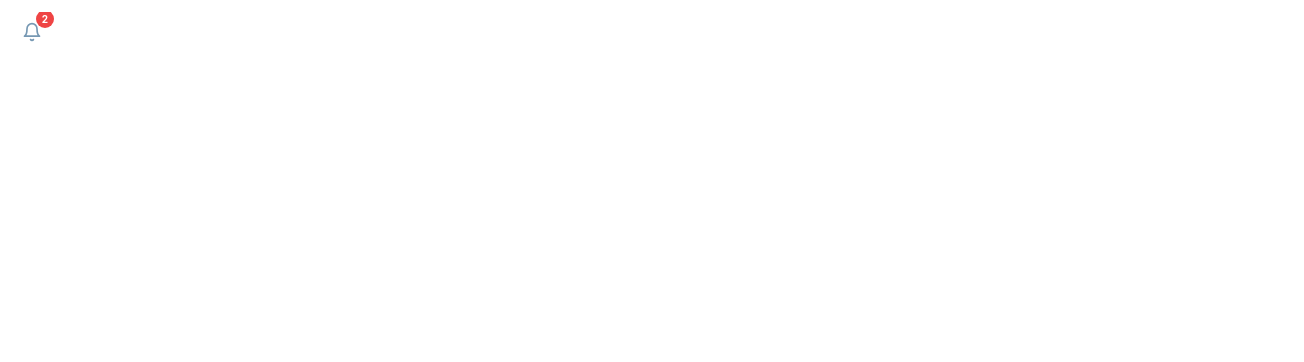
it: AlertBell › el panel empieza cerrado y se abre con el botón
The width and height of the screenshot is (1304, 362).
Expected: the text "Ver todas las alertas" is not shown
Click the button named "Notificaciones". click: (32,32)
box: [12, 12, 52, 52]
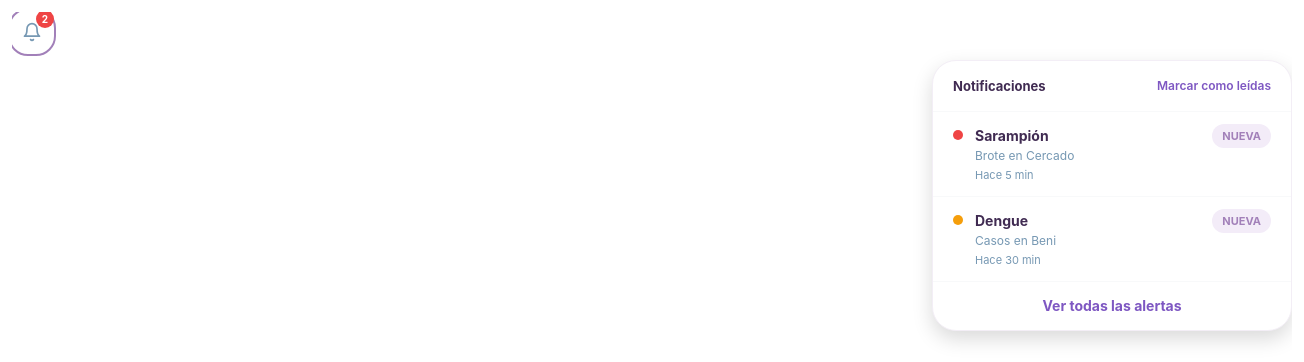
Expected: the text "Sarampión" is shown, [975, 126, 1049, 146]
Expected: the text "Dengue" is shown, [975, 211, 1028, 231]
Expected: the text "NUEVA" is shown 2 times, [1212, 124, 1271, 148]; [1212, 209, 1271, 233]
